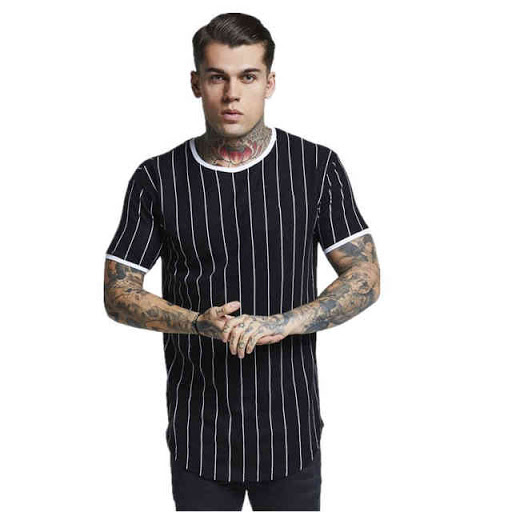striped: (105, 131, 373, 479)
